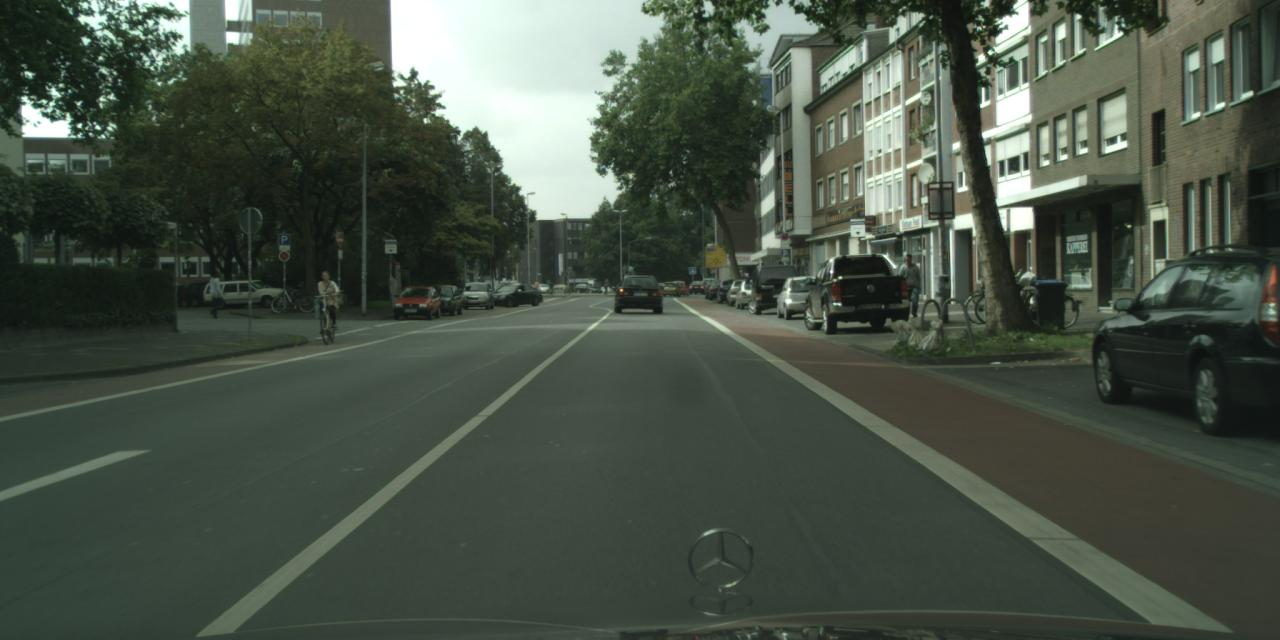ped: (896, 253, 920, 316), (315, 270, 339, 329), (205, 269, 223, 315), (548, 280, 553, 294)
